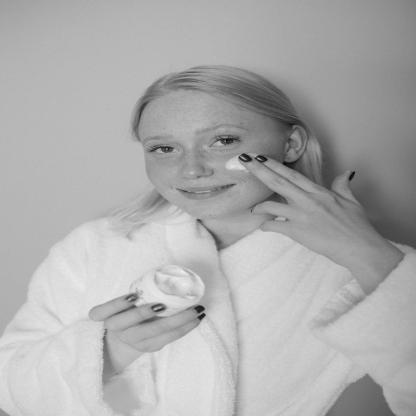Eye: (207, 135, 242, 149), (146, 144, 182, 154)
Mouth: (174, 182, 236, 200)
Nose: (180, 154, 212, 180)
